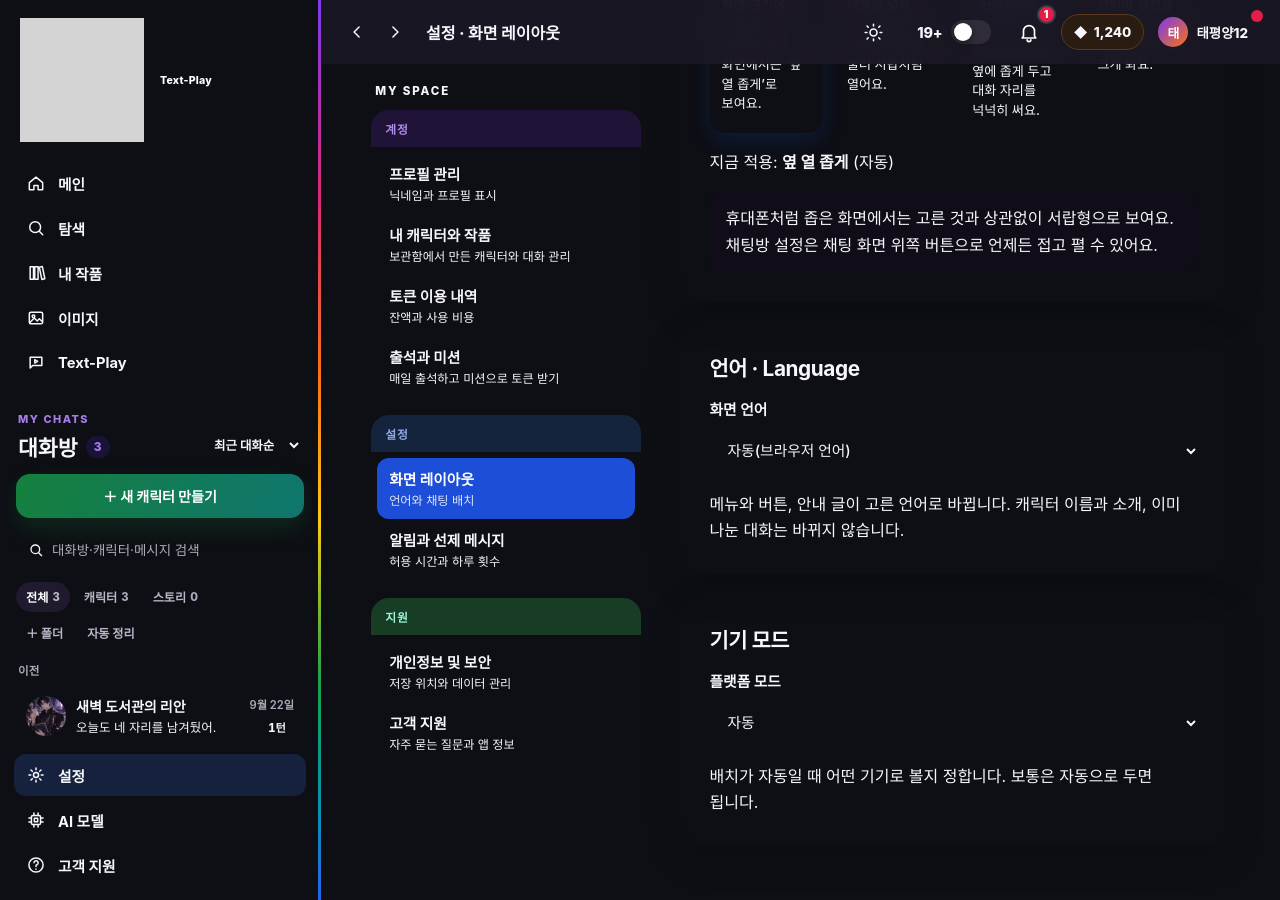
it: 데스크톱 언어 연결 › ChatBot 화면 레이아웃에서 English를 고르면 Text-Play 설정 언어와 사이드바도 영어가 된다
This screenshot has width=1280, height=900.
(page scrolled)
Select "English" in the dropdown labelled "화면 언어": (954,451) top-left (710, 427), bottom-right (1199, 475)
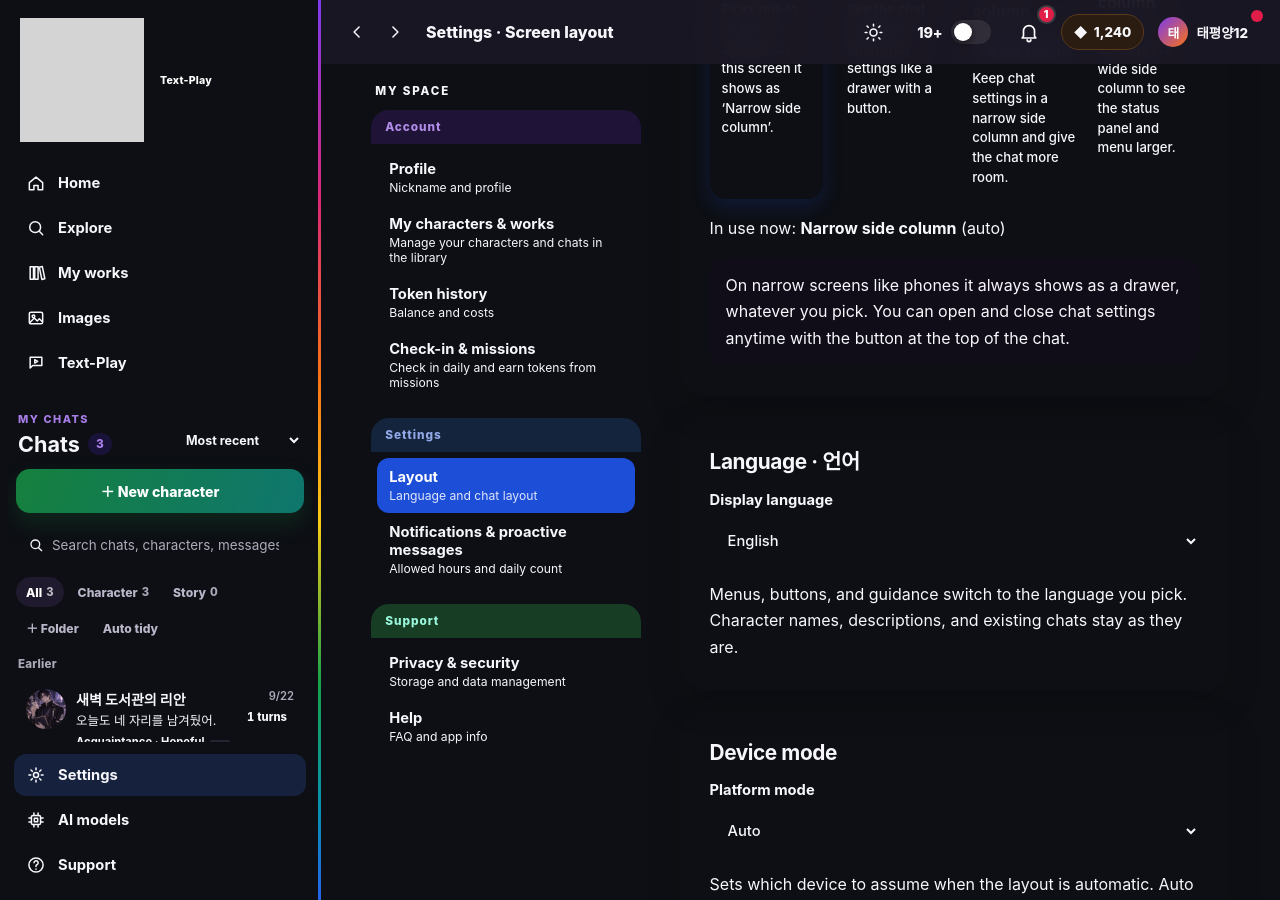
Expected: the link "Explore" is shown, top-left (26, 218), bottom-right (112, 238)
Select "한국어" in the dropdown labelled "Display language": (954,541) top-left (710, 517), bottom-right (1199, 565)
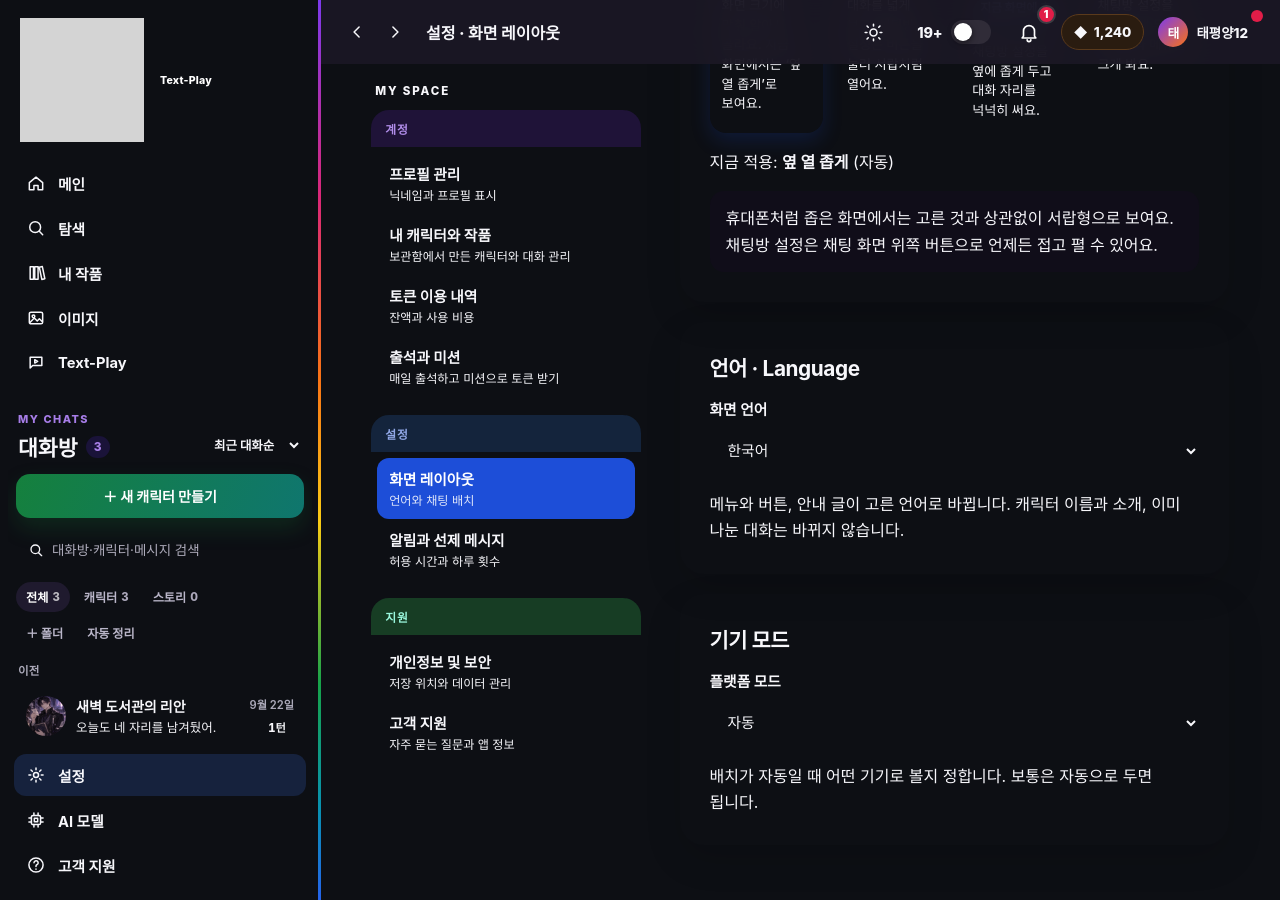
Expected: the link "탐색" is shown, top-left (26, 218), bottom-right (85, 238)
